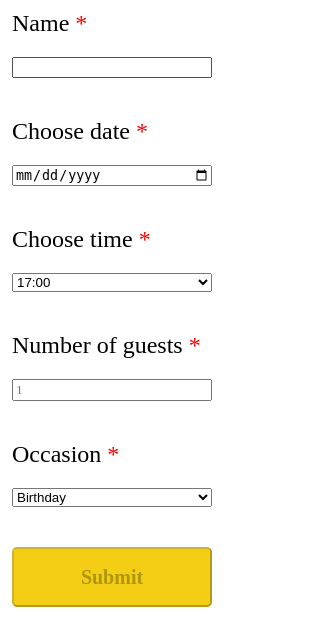
Test case: minimum enabled
In the number field labelled "Number of guests": (112, 390) x1=12 y1=379 x2=212 y2=401, type "20"
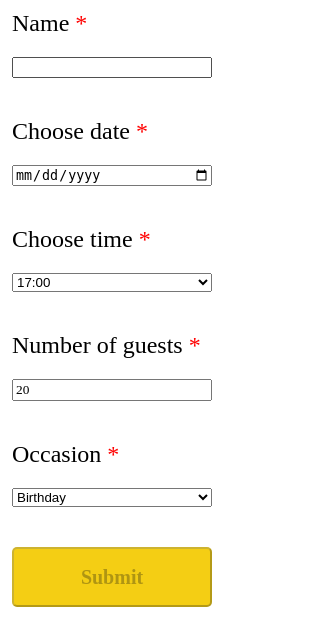
In the field labelled "Name": (112, 68) x1=12 y1=57 x2=212 y2=78, type "Joe"
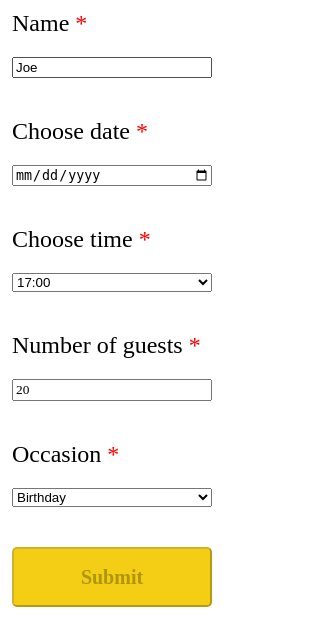
In the date field labelled "Choose date": (112, 176) x1=12 y1=165 x2=212 y2=186, type "2023-02-18"
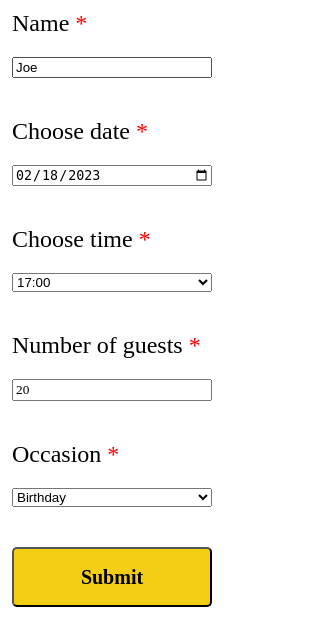
expect the button "Submit" is enabled: met, box x1=12 y1=547 x2=212 y2=607
